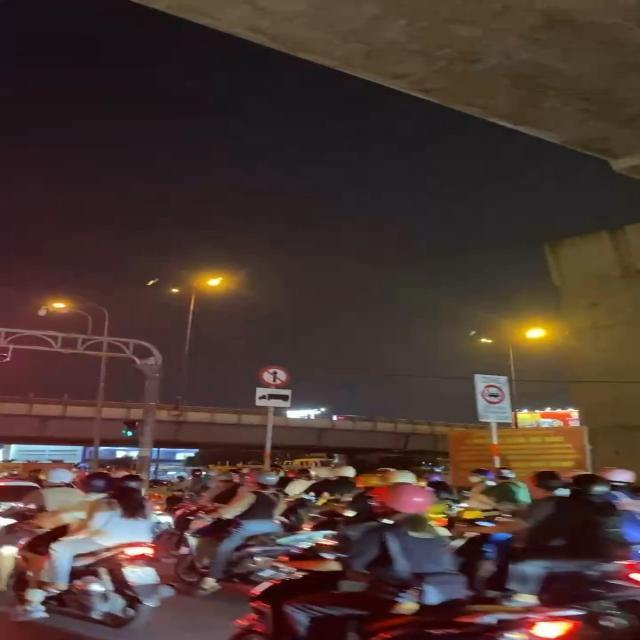136-cam-di-thang: (258, 364, 290, 386)
